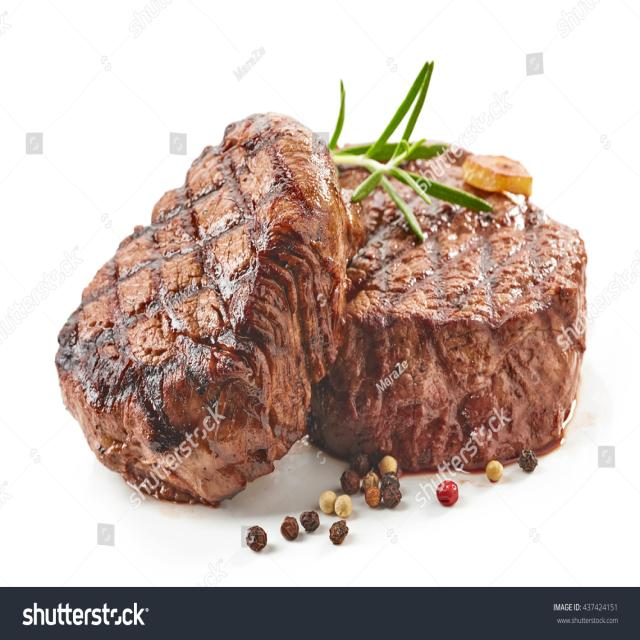Carne: (54, 110, 365, 508), (306, 143, 588, 475)
